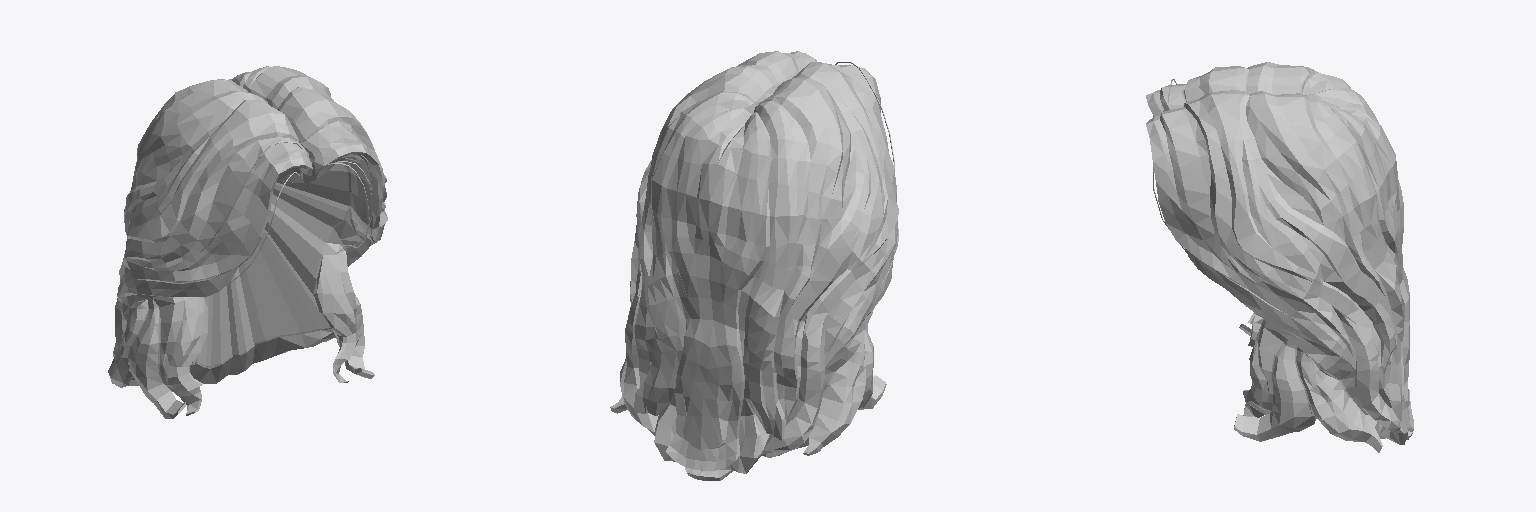
File: hair0_triangulated.obj
3 views of the same model, side by side, from view 1: azimuth 30°, elevation 25°; view 2: azimuth 150°, elevation 25°; view 3: azimuth 270°, elevation 25° (orthographic).
Visible parts, largest first — view 1: figureHair; view 2: figureHair; view 3: figureHair.
Boxes of the visible parts, <box> form: figureHair: <box>108,66,387,418</box>; figureHair: <box>610,51,898,480</box>; figureHair: <box>1146,62,1413,452</box>.
Bounding box in the file's own units: 1.02 × 1.43 × 0.9833.